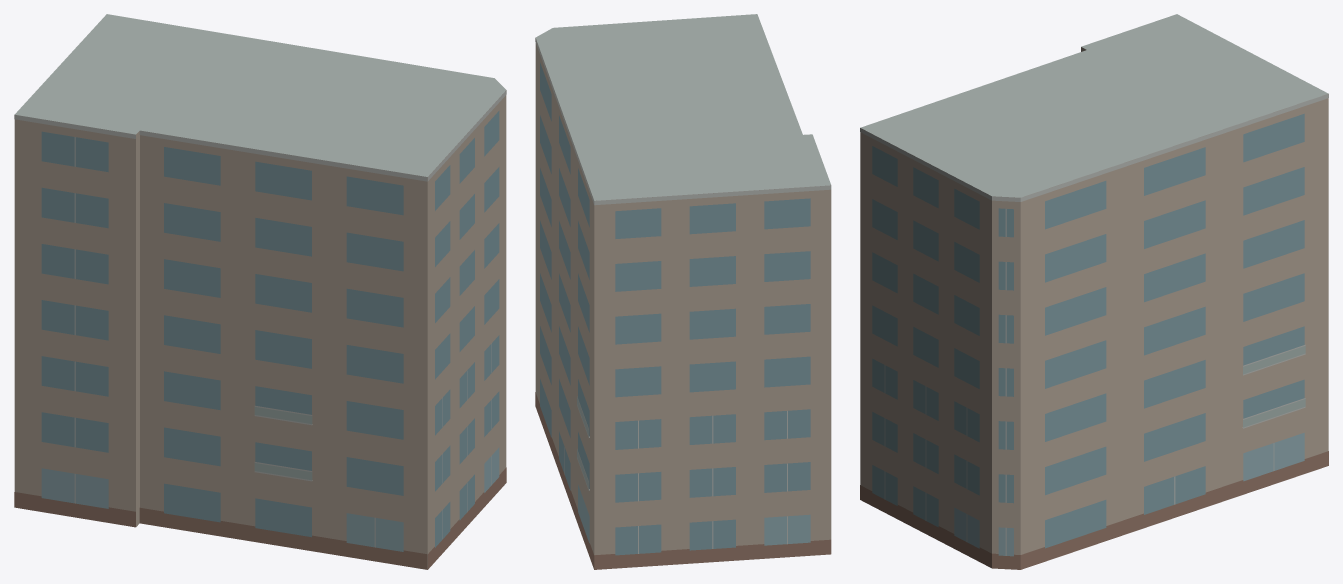
The model's file is survey-upis-32746027.glb.
3 views of the same model, side by side, from view 1: azimuth 30°, elevation 25°; view 2: azimuth 150°, elevation 25°; view 3: azimuth 270°, elevation 25° (orthographic). The views are drawn at different scales.
Visible parts, largest first — view 1: survey-upis-32746027.tmp; view 2: survey-upis-32746027.tmp; view 3: survey-upis-32746027.tmp.
Boxes of the visible parts, box(x1,y1,x2,y2) form: survey-upis-32746027.tmp: box(14, 14, 506, 569); survey-upis-32746027.tmp: box(535, 14, 831, 569); survey-upis-32746027.tmp: box(860, 14, 1328, 569).
Size of the model in its own units: 22.09 by 20.85 by 23.8.
